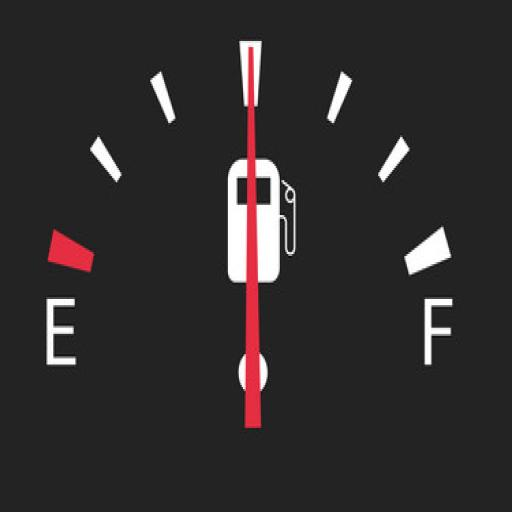empty: (46, 297, 76, 367)
fuel_icon: (223, 158, 293, 287)
full: (421, 296, 453, 368)
guage_area: (44, 35, 458, 443)
needle_center: (234, 338, 276, 402)
needle_tip: (242, 45, 260, 103)
